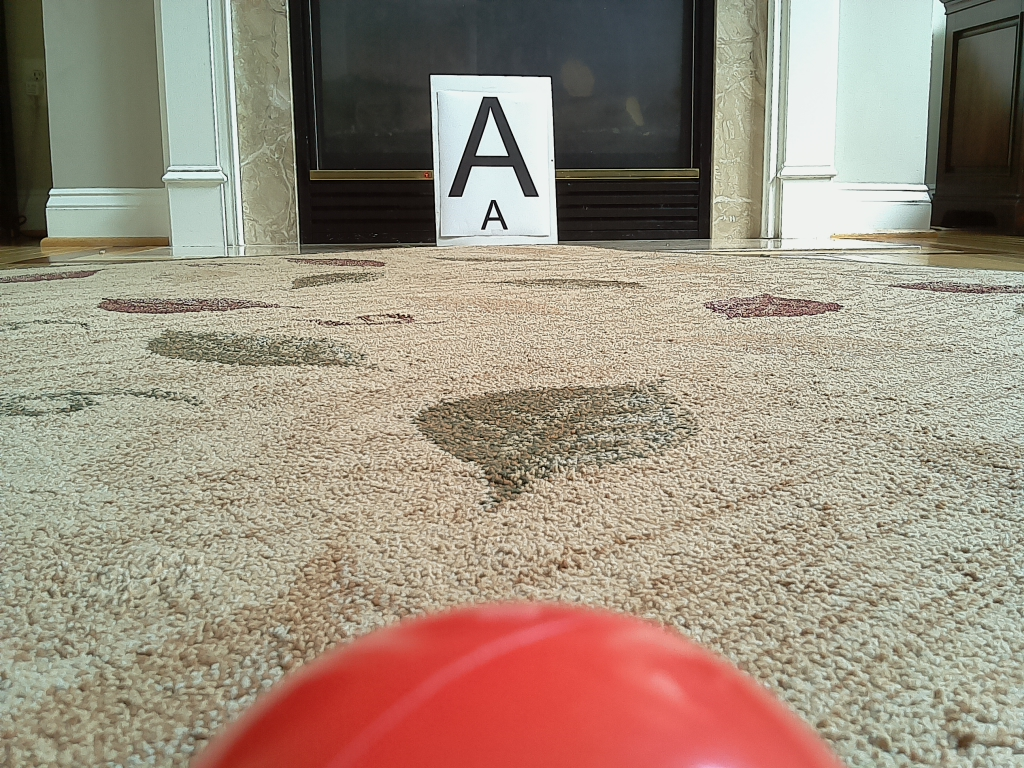letter: (450, 96, 537, 198)
